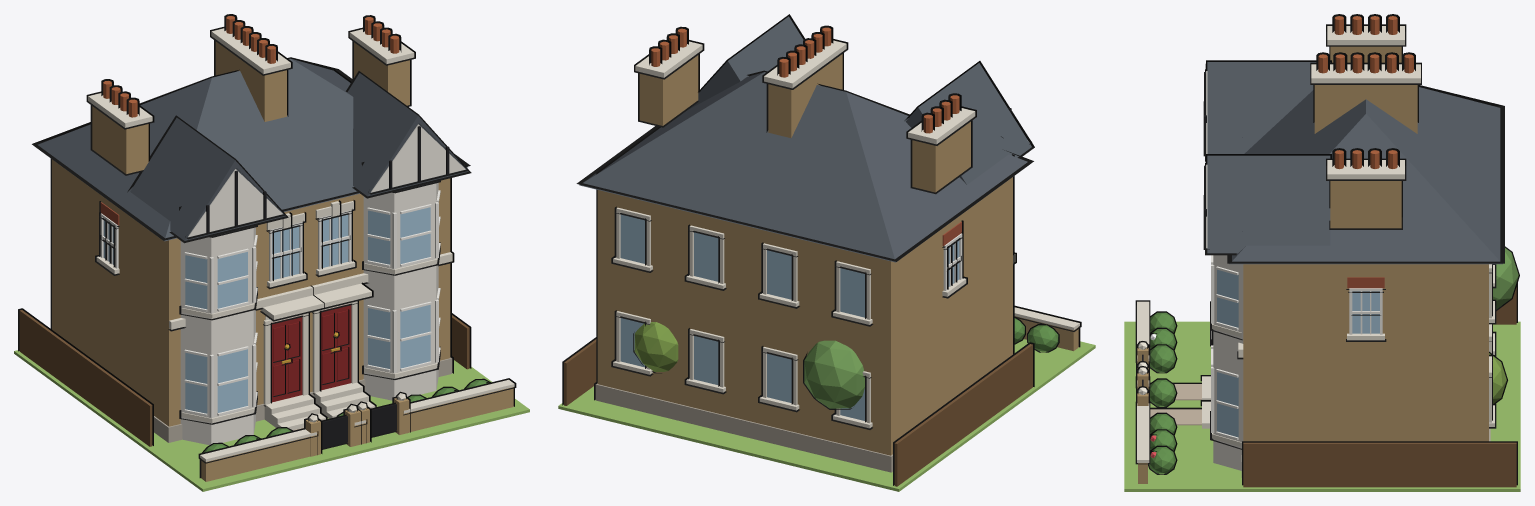
File: MustakilEv_londra_ikiz_2.fbx
The picture shows the model from 3 angles, left to right: view 1: azimuth 30°, elevation 25°; view 2: azimuth 150°, elevation 25°; view 3: azimuth 270°, elevation 25°; orthographic projection. The views are drawn at different scales.
Parts seen in each view (by area): view 1: MustakilEv_londra_ikiz_2; view 2: MustakilEv_londra_ikiz_2; view 3: MustakilEv_londra_ikiz_2.
Part boxes in pixels (x1,y1,x2,y2): MustakilEv_londra_ikiz_2: (14, 14, 529, 491); MustakilEv_londra_ikiz_2: (558, 14, 1095, 491); MustakilEv_londra_ikiz_2: (1124, 14, 1520, 491).
Bounding box in the file's own units: 10 × 9.82 × 10.
